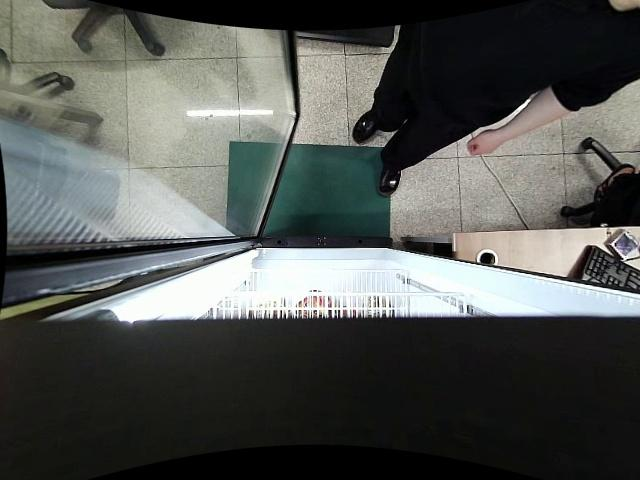00_hand: (466, 127, 504, 157)
